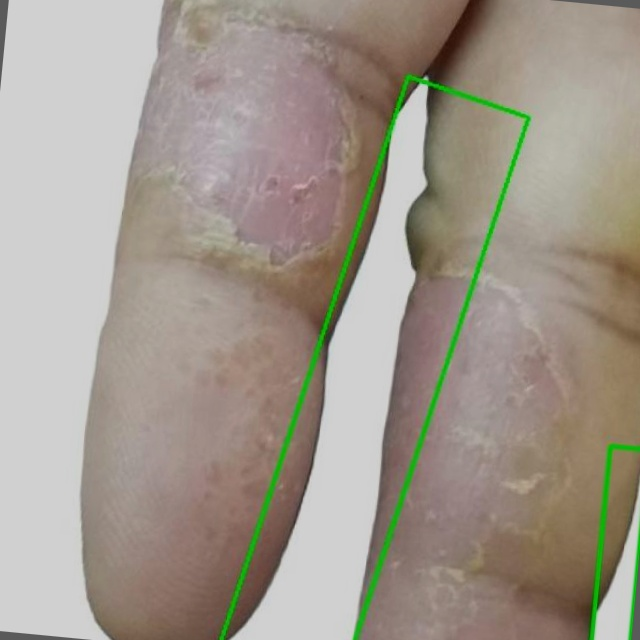Eczema: (222, 77, 528, 639), (591, 446, 639, 639)
